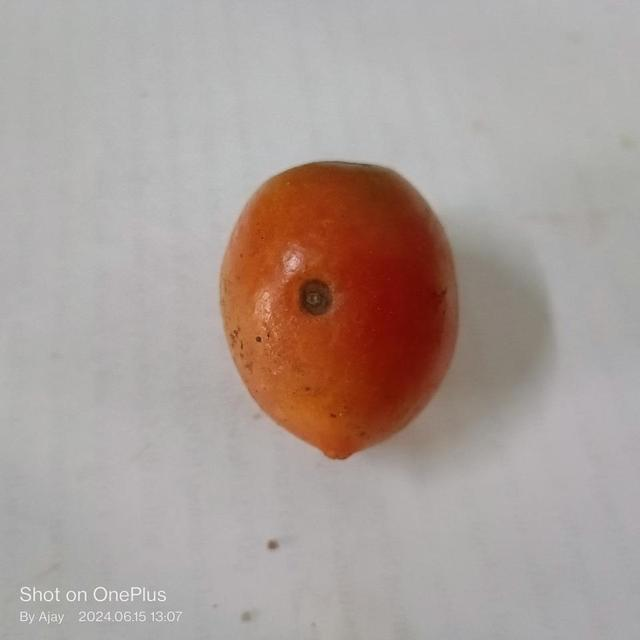Bacterial Spot Fruit: (198, 185, 223, 212)
